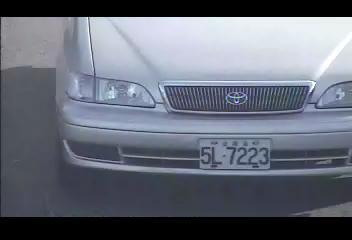plate: (197, 135, 273, 171)
